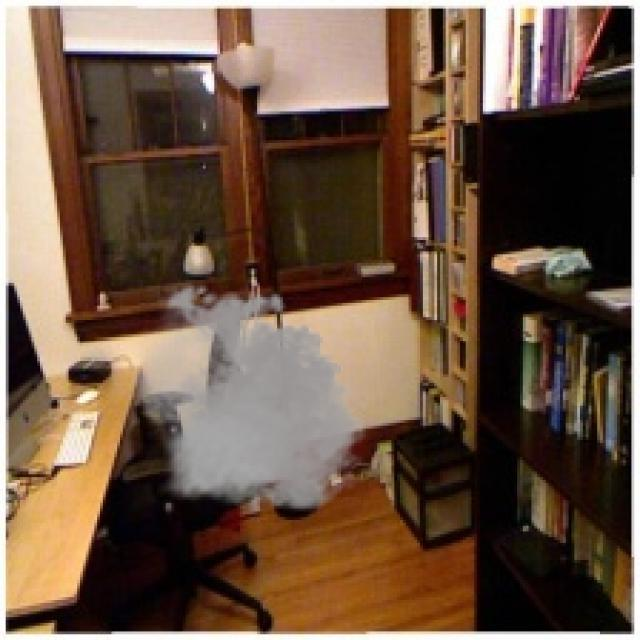Smoke: (126, 277, 374, 520)
